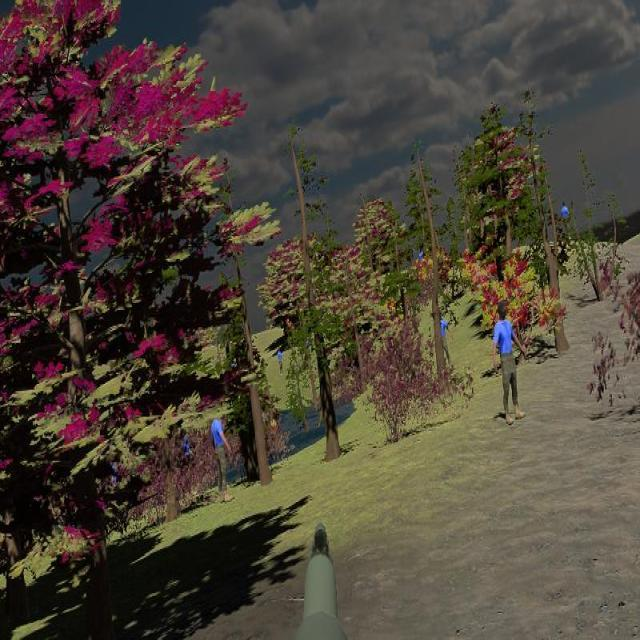Human: (492, 300, 526, 425), (211, 401, 234, 503)
